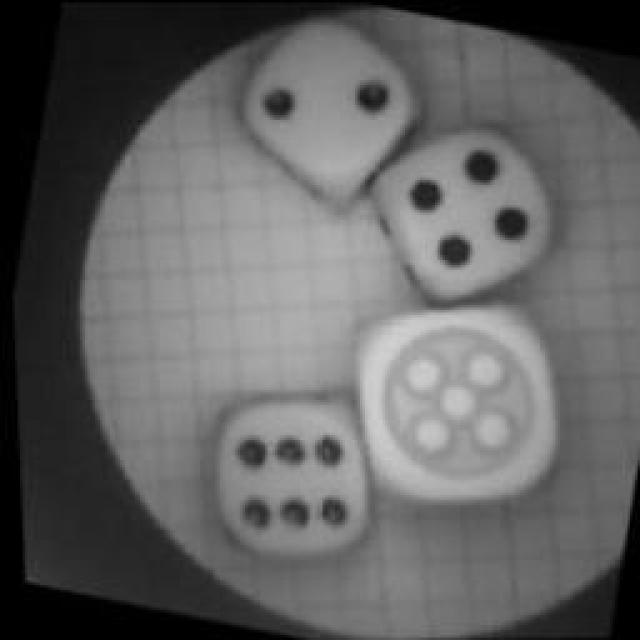dice_2: (218, 1, 438, 221)
dice_4: (340, 99, 585, 334)
dice_5: (304, 269, 594, 539)
dice_6: (178, 366, 394, 582)
